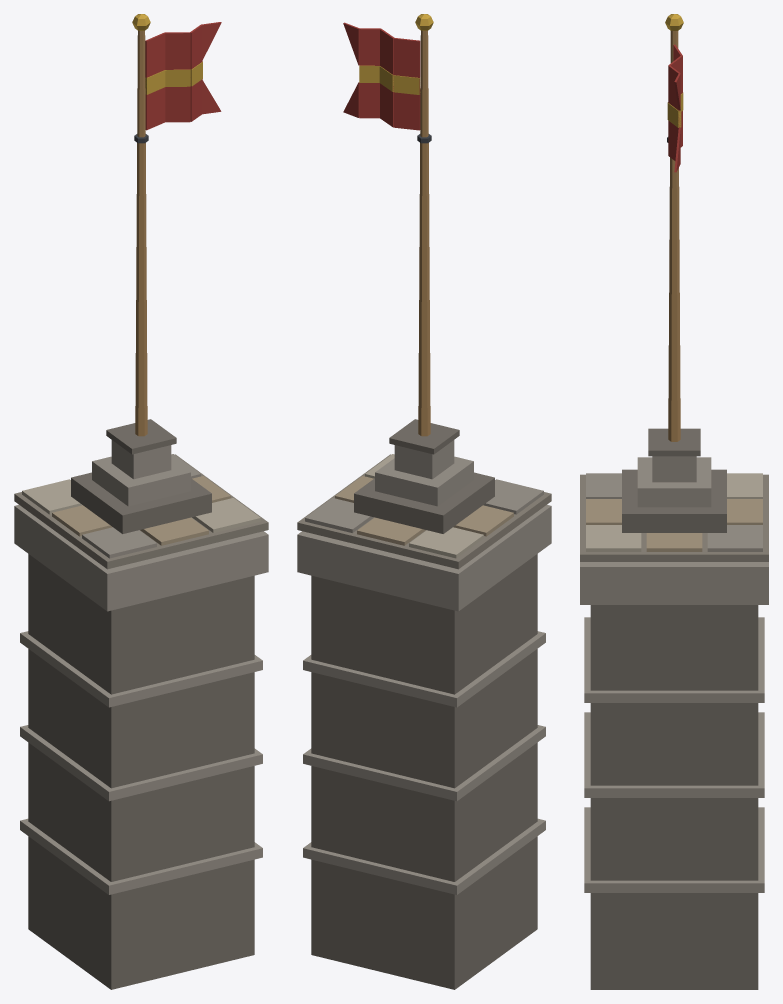
The model's file is decor_flagpole.glb.
The picture shows the model from 3 angles, left to right: view 1: azimuth 30°, elevation 25°; view 2: azimuth 150°, elevation 25°; view 3: azimuth 270°, elevation 25°; orthographic projection.
Visible parts, largest first — view 1: decor_flagpole; view 2: decor_flagpole; view 3: decor_flagpole.
Part boxes in pixels (bbox=[...]): decor_flagpole: bbox=[14, 14, 268, 989]; decor_flagpole: bbox=[297, 14, 551, 989]; decor_flagpole: bbox=[580, 14, 768, 989].
Size of the model in its own units: 1.8 by 9.9 by 1.8.
